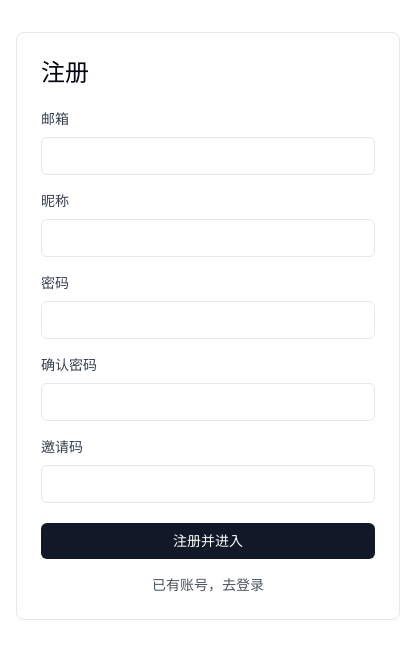
Scenario: RegisterPage › shows the backend invite code error when registration fails
In the field labelled "邮箱": [208, 156] box 41,137 -> 375,175, type "reader@example.com"
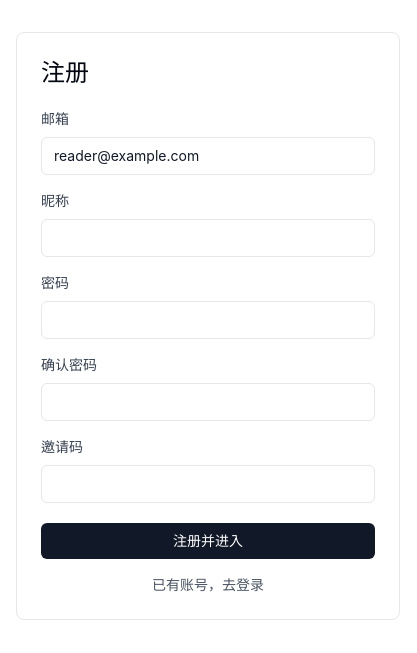
In the password field labelled "密码": [208, 320] box 41,301 -> 375,339, type "password123"
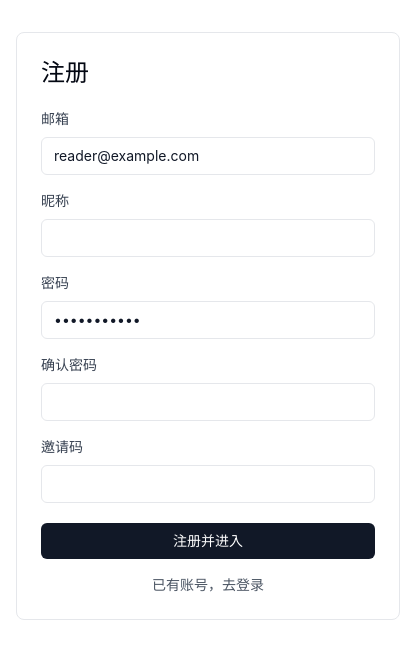
In the password field labelled "确认密码": [208, 402] box 41,383 -> 375,421, type "password123"
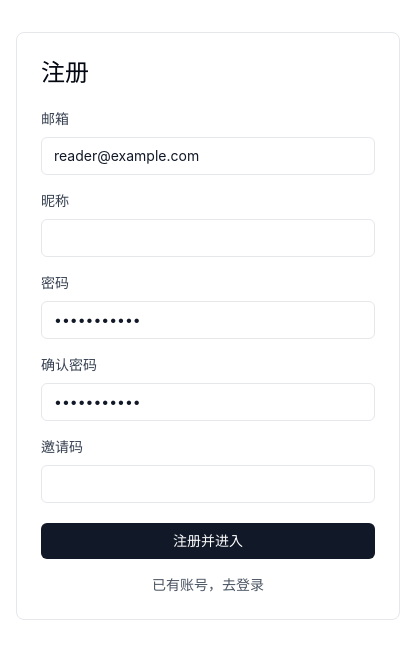
In the field labelled "邀请码": [208, 484] box 41,465 -> 375,503, type "wrong"
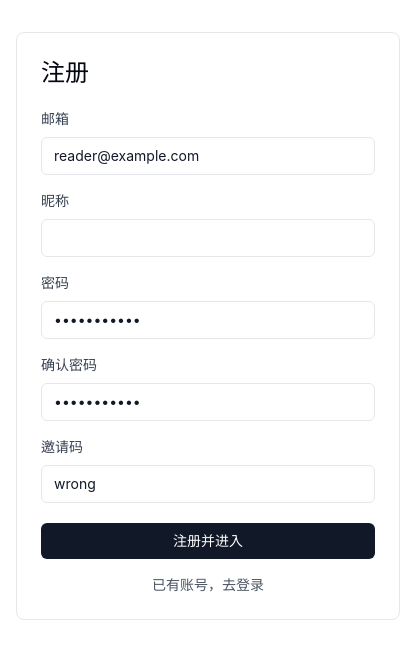
Click the button "注册并进入": [208, 541] box 41,523 -> 375,559
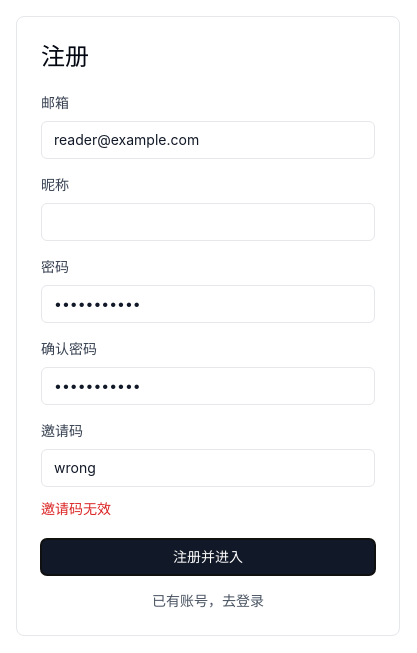
Check: the text "邀请码无效" is shown, box 41,500 -> 111,517
